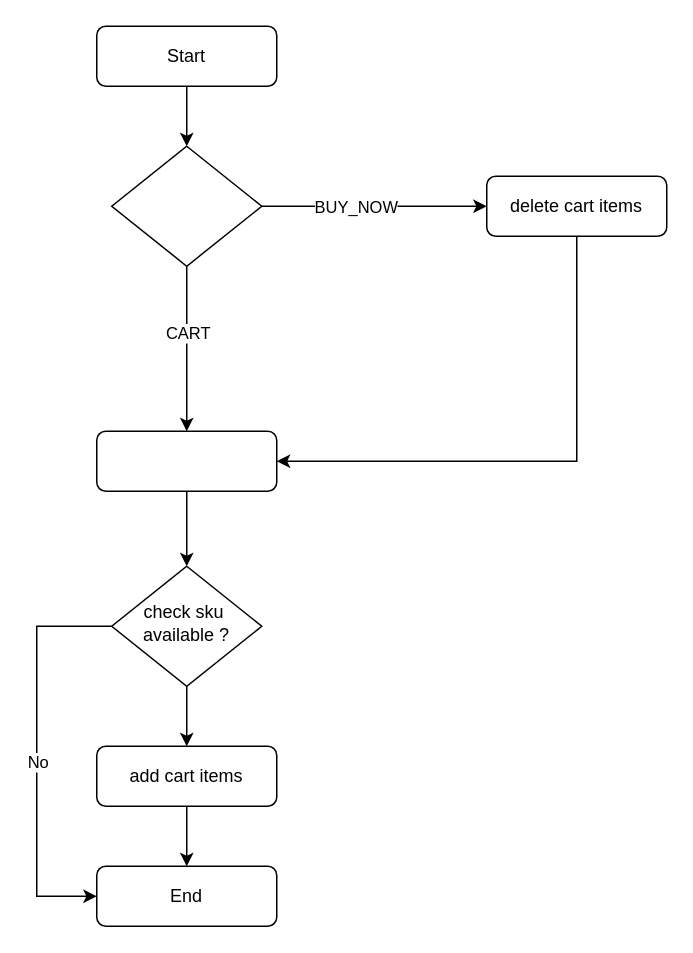
Some shapes in this 693 by 953 pixel diagram are drawn without their labels. Each missing label, with the centre of its shape:
"CalcCartItems" goes at pixel 186 460.
"check scene" goes at pixel 186 205.
